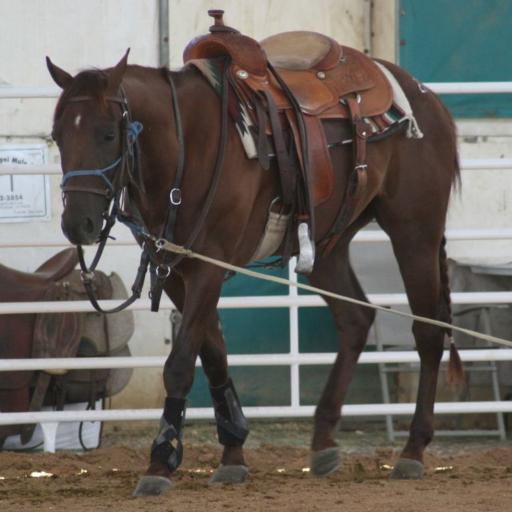horse: (44, 46, 466, 499)
